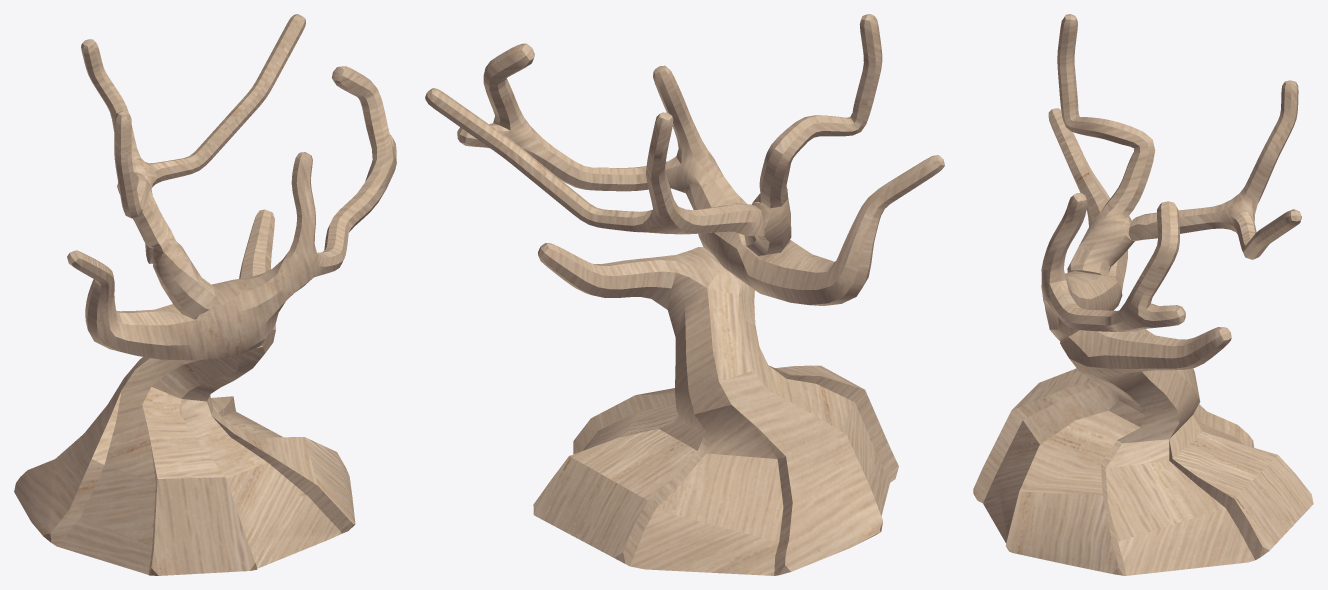
The model's file is light-vip-hallacirya-tree.glb.
3 views of the same model, side by side, from view 1: azimuth 30°, elevation 25°; view 2: azimuth 150°, elevation 25°; view 3: azimuth 270°, elevation 25° (orthographic). The views are drawn at different scales.
Parts seen in each view (by area): view 1: Vert.001; view 2: Vert.001; view 3: Vert.001.
Part boxes in pixels (x1,y1,x2,y2): Vert.001: (14,14,396,575); Vert.001: (425,14,944,575); Vert.001: (973,14,1313,575).
Bounding box in the file's own units: 2.63 × 2.92 × 2.02.
Materials: 1 (1 with a texture image).
